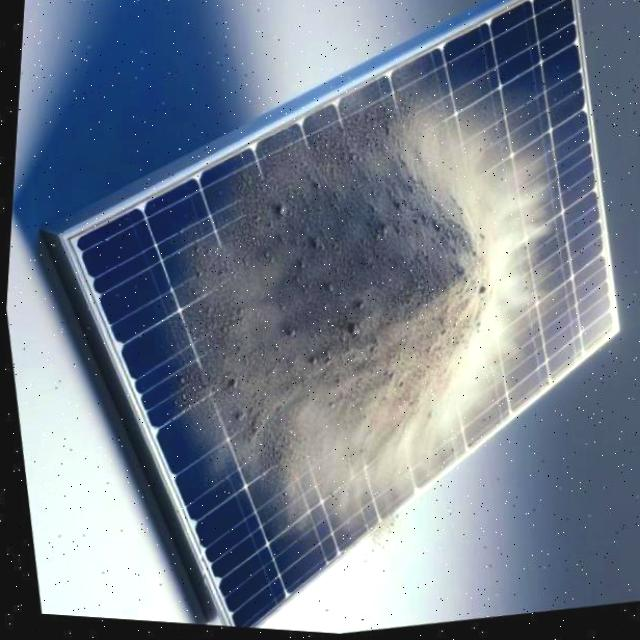Anomaly Solar Panel: (45, 0, 640, 634)
Surface Contaminant: (125, 24, 588, 584)
